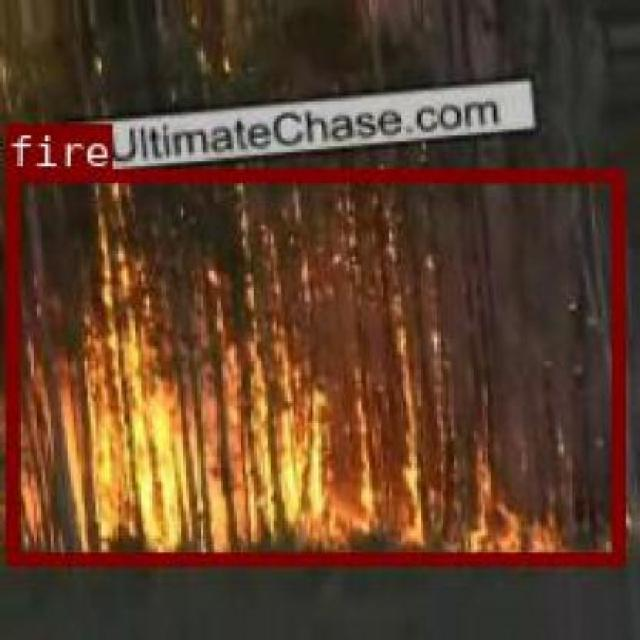fire: (4, 169, 622, 563)
